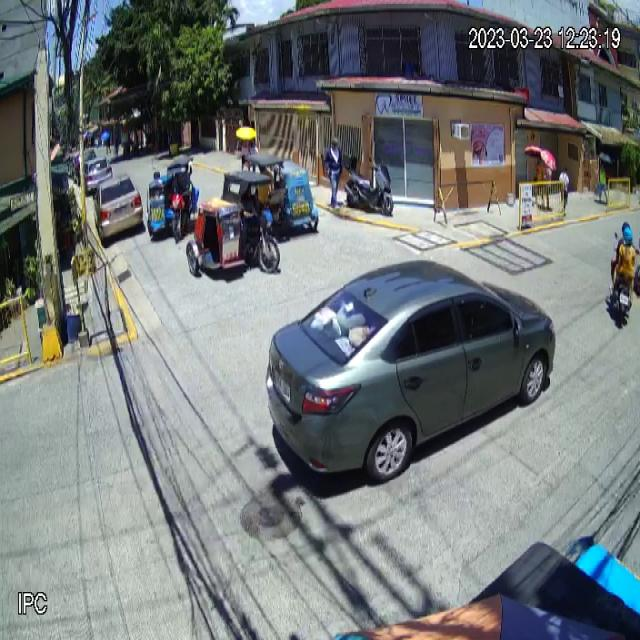Car: (264, 257, 557, 484)
Motorcycle: (343, 152, 394, 216)
Tricycle: (186, 169, 281, 277), (146, 155, 195, 242)
